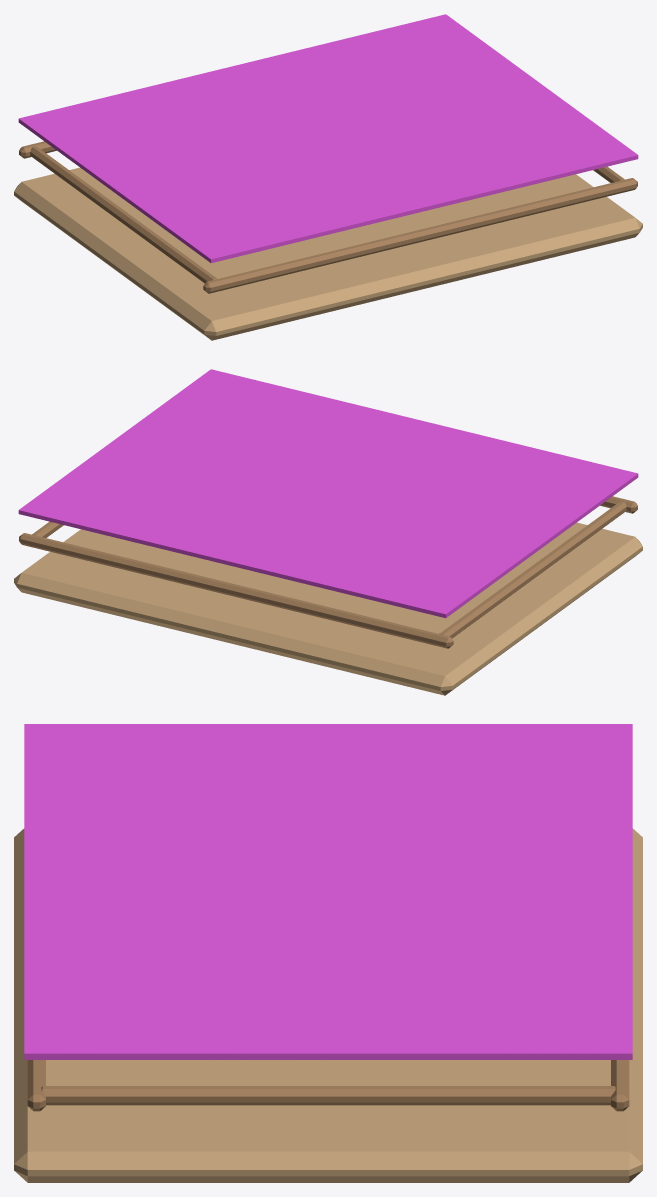
The model's file is lookout_deck_lod2_v1.glb.
3 views of the same model, one above another, from view 1: azimuth 30°, elevation 25°; view 2: azimuth 150°, elevation 25°; view 3: azimuth 270°, elevation 25° (orthographic). The views are drawn at different scales.
Visible parts, largest first — view 1: NAV_MASK_LOOKOUT_DECK, LOD2_LOOKOUT_DECK_Deck, LOD2_LOOKOUT_DECK_RailY, LOD2_LOOKOUT_DECK_RailX; view 2: NAV_MASK_LOOKOUT_DECK, LOD2_LOOKOUT_DECK_Deck, LOD2_LOOKOUT_DECK_RailY.001, LOD2_LOOKOUT_DECK_RailX; view 3: NAV_MASK_LOOKOUT_DECK, LOD2_LOOKOUT_DECK_Deck, LOD2_LOOKOUT_DECK_RailX.001, LOD2_LOOKOUT_DECK_RailY, LOD2_LOOKOUT_DECK_RailY.001.
Part boxes in pixels (<box>): NAV_MASK_LOOKOUT_DECK: <box>18,14,638,263</box>; LOD2_LOOKOUT_DECK_Deck: <box>14,167,642,340</box>; LOD2_LOOKOUT_DECK_RailY: <box>203,178,637,293</box>; LOD2_LOOKOUT_DECK_RailX: <box>30,146,217,283</box>; NAV_MASK_LOOKOUT_DECK: <box>18,369,638,618</box>; LOD2_LOOKOUT_DECK_Deck: <box>14,522,642,695</box>; LOD2_LOOKOUT_DECK_RailY.001: <box>19,533,453,648</box>; LOD2_LOOKOUT_DECK_RailX: <box>439,501,626,638</box>; NAV_MASK_LOOKOUT_DECK: <box>24,724,632,1059</box>; LOD2_LOOKOUT_DECK_Deck: <box>14,828,642,1182</box>; LOD2_LOOKOUT_DECK_RailX.001: <box>41,1086,615,1105</box>; LOD2_LOOKOUT_DECK_RailY: <box>27,1060,45,1111</box>; LOD2_LOOKOUT_DECK_RailY.001: <box>611,1060,629,1111</box>.
Size of what is drawn, in the model's own units: 7 by 1.26 by 5.5.
